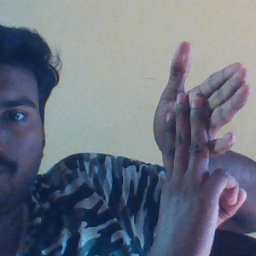M: (141, 38, 256, 214)
